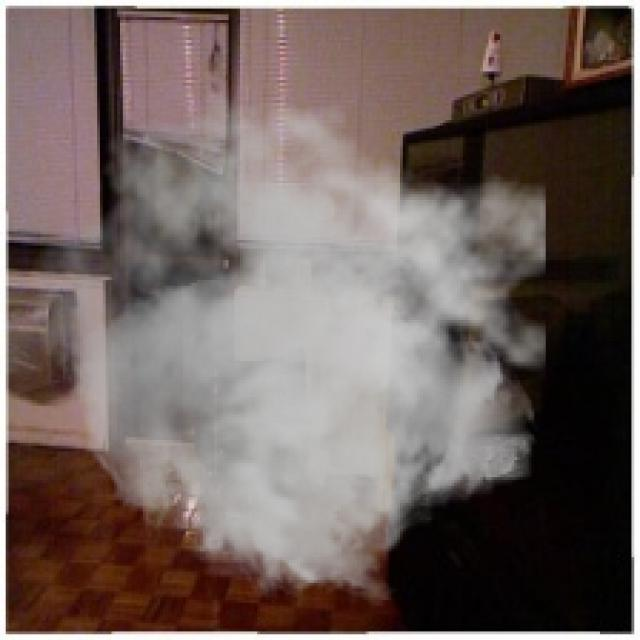smoke: (28, 86, 546, 608)
